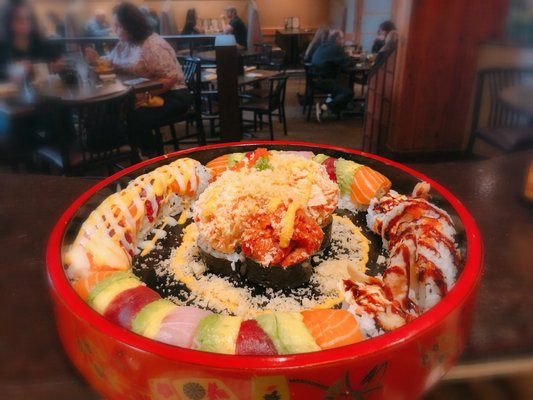sushi: (64, 143, 483, 400)
